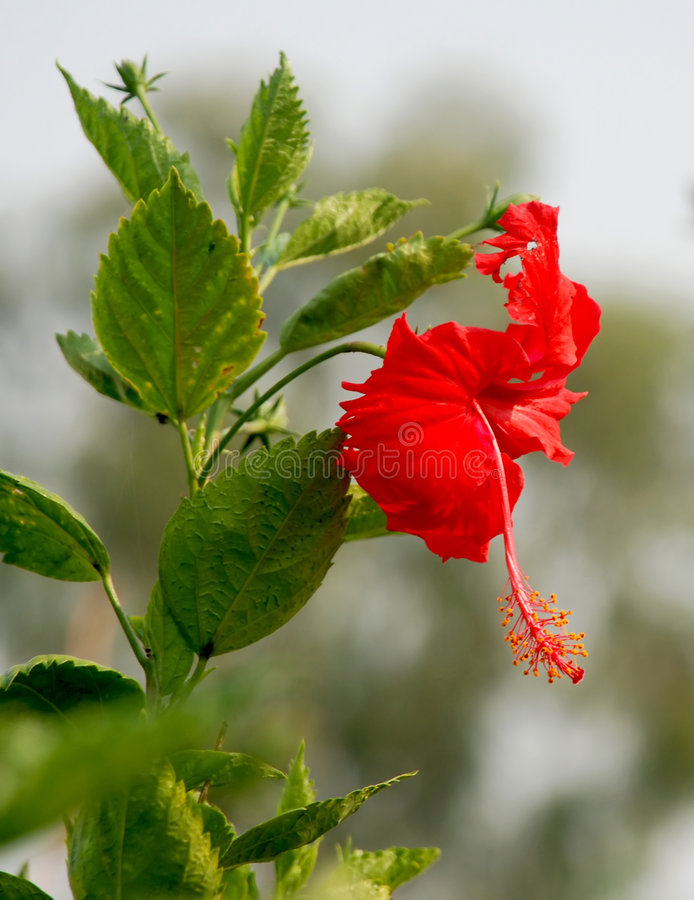Hibiscus: (332, 209, 648, 703)
